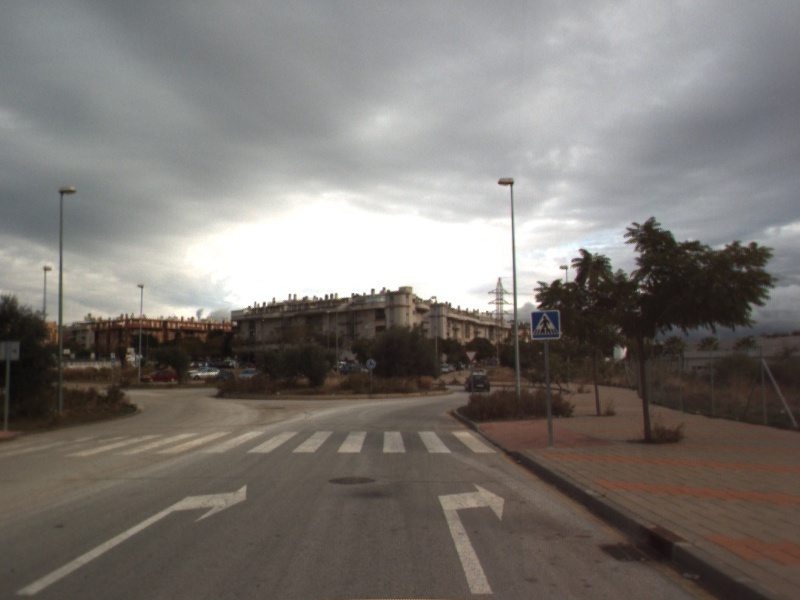RIGHT: (13, 483, 249, 597), (436, 480, 507, 596)
